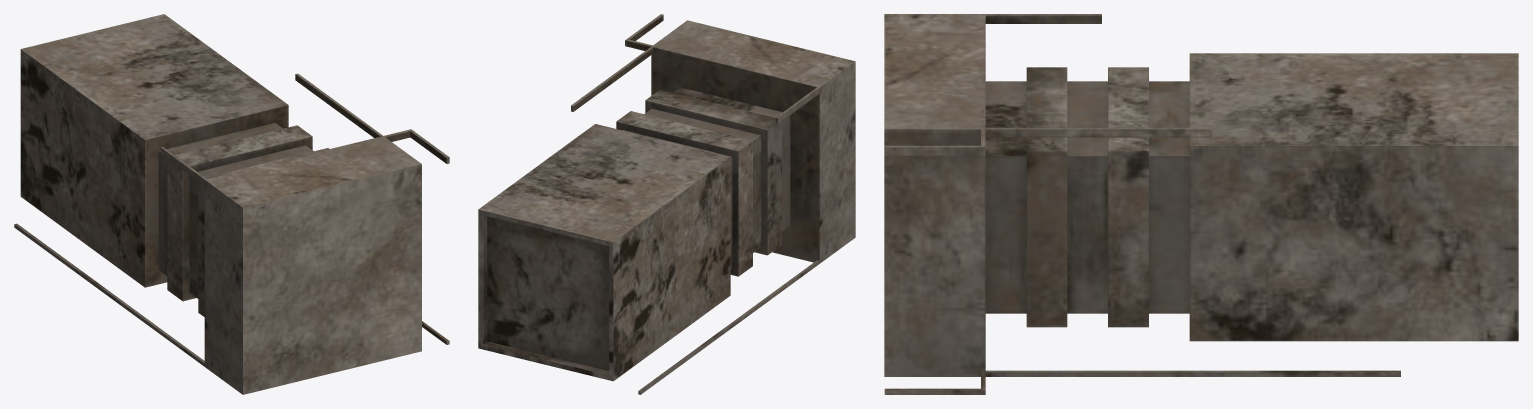
File: bld_tower.glb
3 renders of one model, left to right at view 1: azimuth 30°, elevation 25°; view 2: azimuth 150°, elevation 25°; view 3: azimuth 270°, elevation 25°, orthographic. The views are drawn at different scales.
Parts seen in each view (by area): view 1: Building_09_Building_009_0; view 2: Building_09_Building_009_0; view 3: Building_09_Building_009_0.
Part boxes in pixels (x1,y1,x2,y2): Building_09_Building_009_0: [14, 14, 449, 394]; Building_09_Building_009_0: [478, 14, 855, 394]; Building_09_Building_009_0: [884, 14, 1518, 394].
Bounding box in the file's own units: 3.48 × 3.01 × 7.
1 material, 1 textured.
